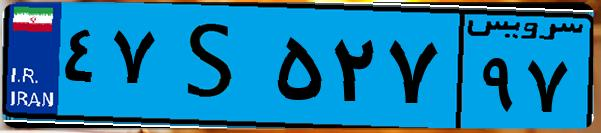2: (330, 28, 385, 110)
4: (57, 26, 110, 100)
5: (270, 28, 330, 110)
7: (385, 28, 445, 110), (525, 38, 570, 115), (110, 28, 158, 98)
9: (475, 38, 525, 113)
S: (158, 12, 270, 120)
